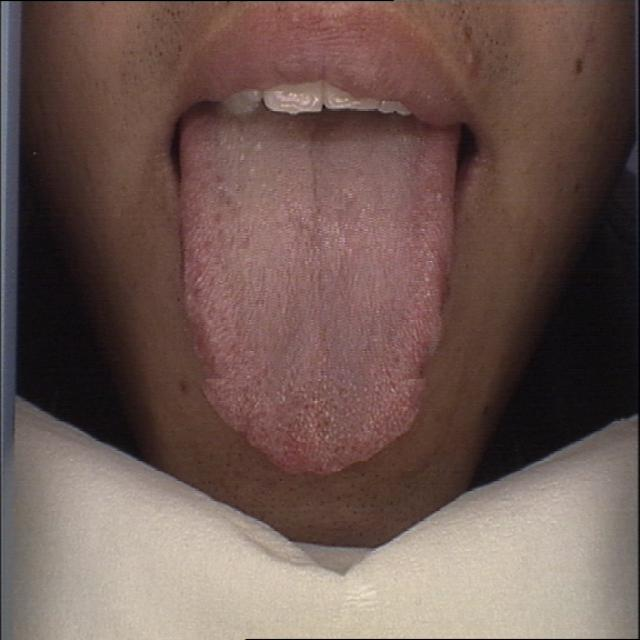tongue: (166, 106, 470, 482)
